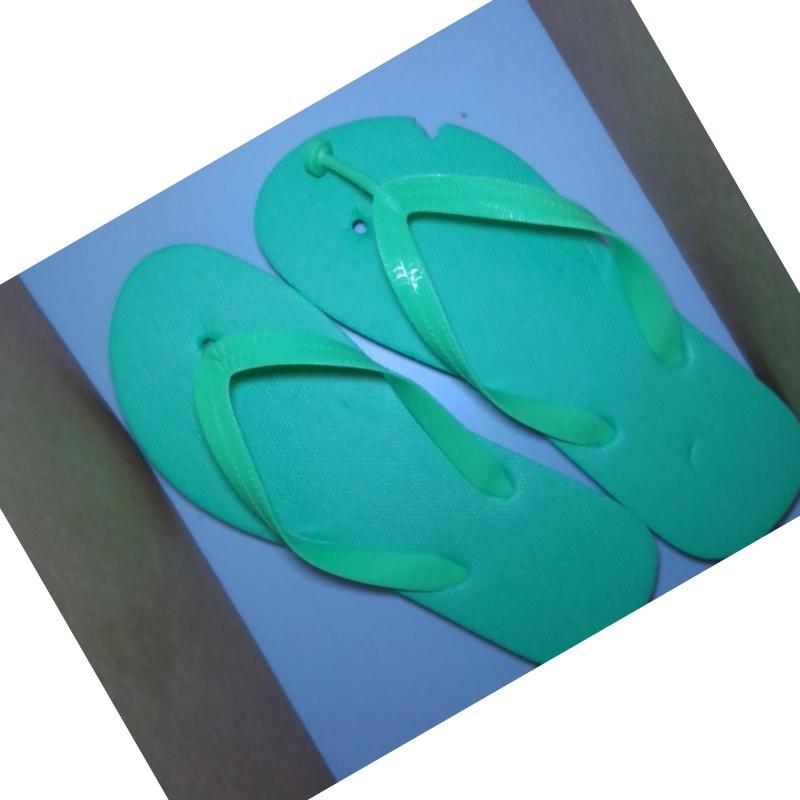chipped: (405, 105, 459, 149)
detached: (293, 129, 363, 189)
